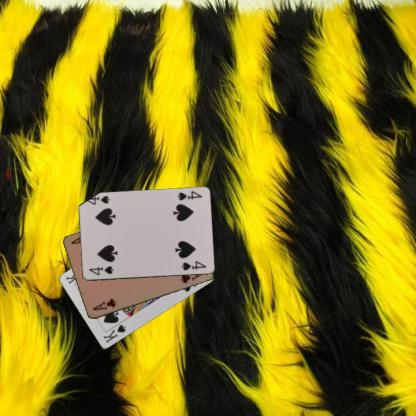4s: (174, 188, 203, 202), (86, 264, 114, 276)
Ac: (89, 296, 117, 312)
Ks: (100, 322, 126, 344)
